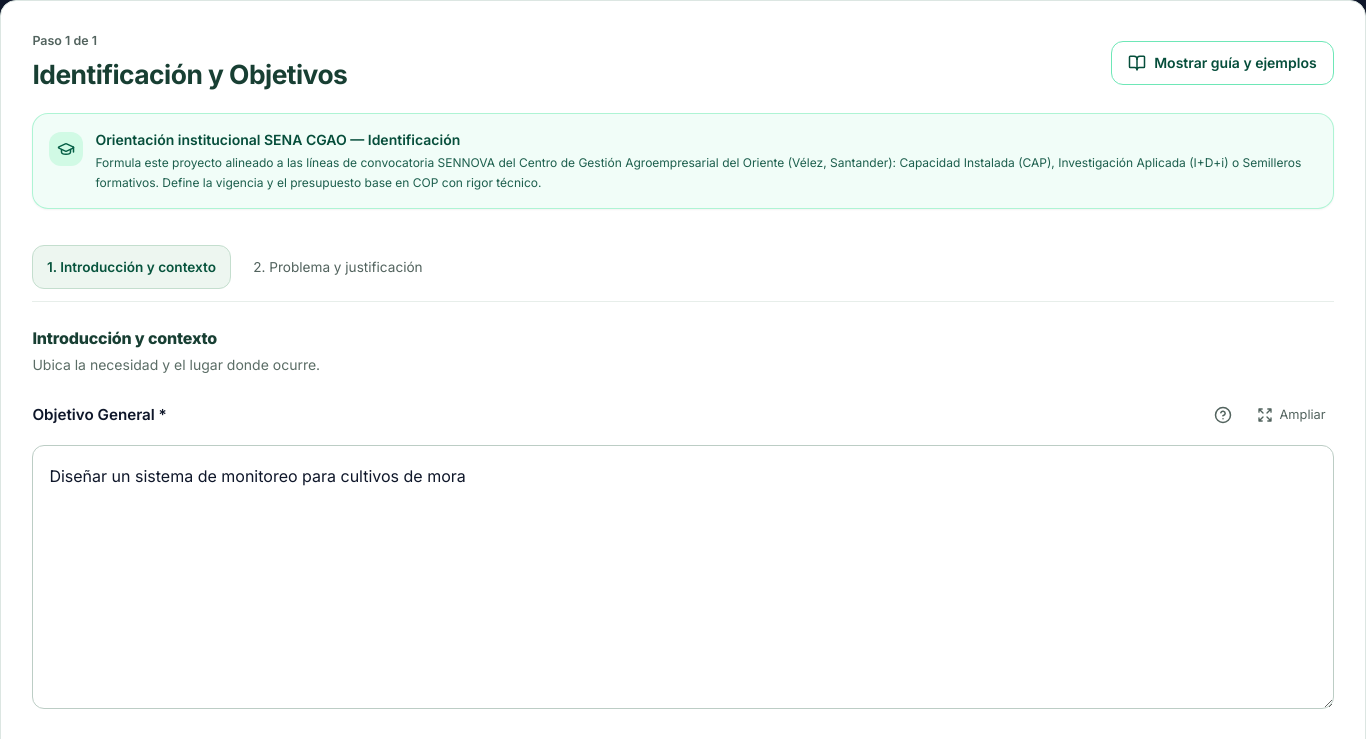
Test: ProjectFormulationStep › presenta los campos en bloques que explican qué se construye en cada parte
Expected: the heading "Introducción y contexto" is shown, left=32, top=328, right=217, bottom=348
Expected: the text "Ubica la necesidad y el lugar donde ocurre." is shown, left=32, top=356, right=320, bottom=373
Click the button "2. Problema y justificación" at (338, 267), box left=239, top=245, right=437, bottom=289
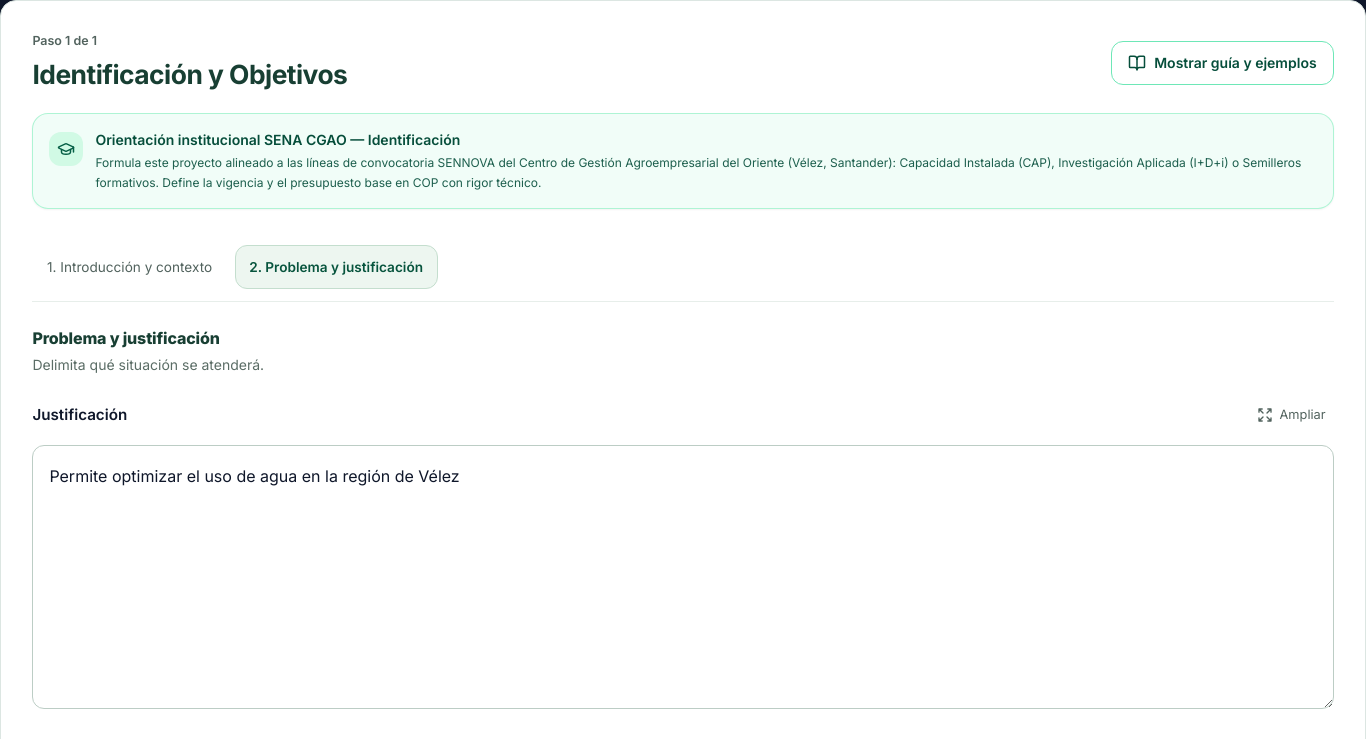
Now the heading "Problema y justificación" is shown, box left=32, top=328, right=220, bottom=348
Now the text "Delimita qué situación se atenderá." is shown, box left=32, top=356, right=264, bottom=373
Now the text box labelled "Justificación" is shown, box left=32, top=444, right=1334, bottom=709
